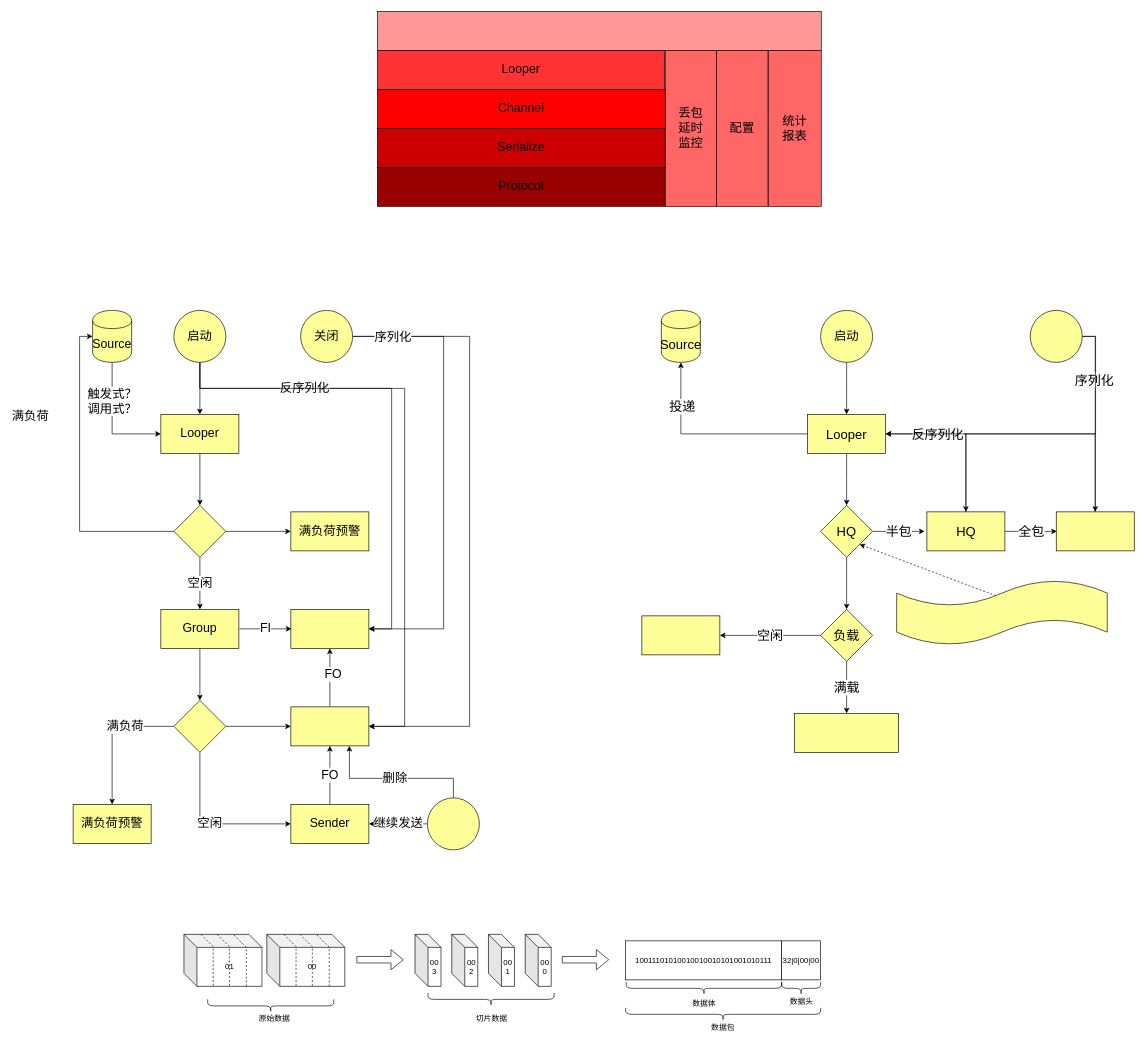
The diagram is 1145 pixels wide and 1045 high, and some of its shapes have lost their labels. Each missing label, with the centre of its shape:
"ACK" goes at [453,823].
"ACK(gid,did)" goes at [680,635].
"ACK(start,stop)" goes at [846,732].
"ApplicationInterface" goes at [599,30].
"EQ" goes at [1095,531].
"RSQ" goes at [329,726].
"RSQ 负荷" goes at [199,726].
"SQ" goes at [329,628].
"SQ 负荷" goes at [199,531].
"结束" goes at [1056,336].
"都是半包已满载如何处理？" goes at [1001,612].
